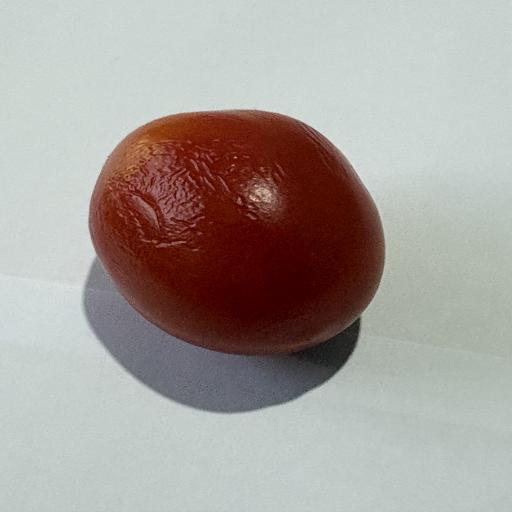spoiled: (89, 110, 384, 355)
